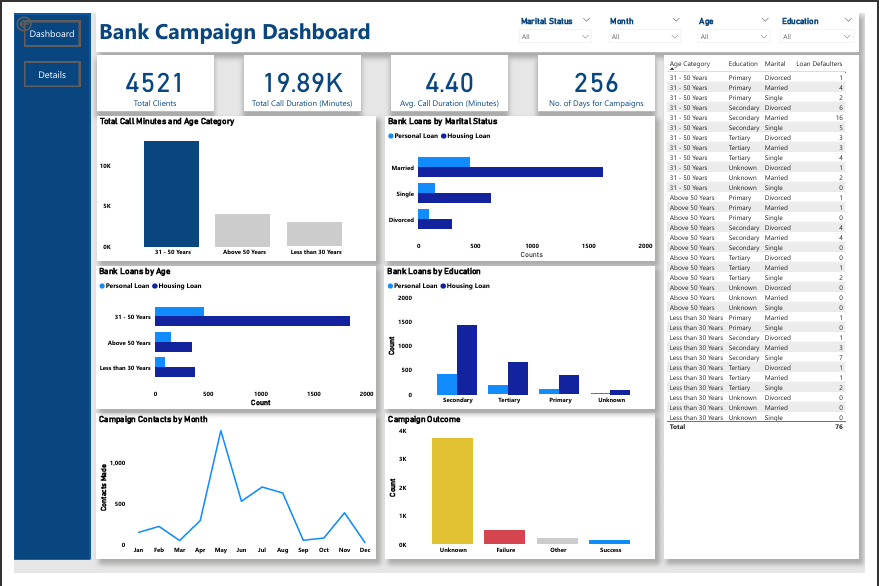

The page's visual inventory and layout, read from the dashboard file:
{"tool":"powerbi","page":{"name":"Page 1","canvas":[1700,1120],"ordinal":0},"visuals":[{"type":"shape","box":[0,0,152.1,1091.3],"z":0},{"type":"actionButton","box":[19.8,14.2,112,51],"z":1000},{"type":"actionButton","box":[19.8,95,112,51],"z":2000},{"type":"textbox","box":[165.3,0,1521.5,77.9],"z":3000},{"type":"slicer","fields":{"Values":["public bank_2.month"]},"box":[1177.7,0,165.3,77.9],"z":4000},{"type":"card","fields":{"Values":["CountNonNull(public bank_2.age)"]},"box":[165.8,83.6,232.4,112],"z":5000},{"type":"card","fields":{"Values":["Sum(public bank_2.duration_minutes)"]},"box":[459.7,83.6,232.4,112],"z":6000},{"type":"card","fields":{"Values":["Avg(public bank_2.duration_minutes)"]},"box":[753.5,83.6,232.4,112],"z":7000},{"type":"card","fields":{"Values":["Count(public bank_2.date)"]},"box":[1047.4,83.6,232.4,112],"z":8000},{"type":"clusteredColumnChart","title":"Total Call Minutes and Age Category","fields":{"Category":["public bank_2.age_cat"],"Y":["Sum(public bank_2.duration_minutes)"]},"box":[165.7,204.5,557.1,290.9],"z":9000},{"type":"clusteredBarChart","title":"Bank Loans by Marital Status","fields":{"Category":["public bank_2.marital"],"Y":["public bank_2.Personal_loan","public bank_2.Housing_loan"]},"box":[742.3,204.5,537.7,290.9],"z":10000},{"type":"actionButton","box":[0,0,100,40],"z":11000},{"type":"lineChart","title":"Campaign Contacts by Month","fields":{"Y":["CountNonNull(public bank_2.campaign)"],"Category":["public bank_2.month"]},"box":[165.4,800.3,557.8,291],"z":12000},{"type":"columnChart","title":"Campaign Outcome","fields":{"Category":["public bank_2.poutcome"],"Y":["CountNonNull(public bank_2.poutcome)"]},"box":[743,800.3,538,291],"z":13000},{"type":"tableEx","fields":{"Values":["public bank_2.age_cat","public bank_2.education","public bank_2.marital","month_table.Loan Default"]},"box":[1298.6,83.8,388,1007.6],"z":14000},{"type":"slicer","fields":{"Values":["public bank_2.age_cat"]},"box":[1356.2,0,165.3,66.5],"z":15000},{"type":"slicer","fields":{"Values":["public bank_2.education"]},"box":[1521.5,0,165.3,77.9],"z":16000},{"type":"slicer","fields":{"Values":["public bank_2.marital"]},"box":[999.1,0,165.3,77.9],"z":17000},{"type":"clusteredBarChart","title":"Bank Loans by Age","fields":{"Category":["public bank_2.Age Category"],"Y":["public bank_2.Personal_loan","public bank_2.Housing_loan"]},"box":[165.4,504.9,558.1,286.4],"z":18000},{"type":"clusteredColumnChart","title":"Bank Loans by Education","fields":{"Category":["public bank_2.Education"],"Y":["public bank_2.Personal_loan","public bank_2.Housing_loan"]},"box":[740.8,504.9,540.2,286.6],"z":19000}]}

Visuals, with their boxes in screenshot pixels (x1, y1, x2, y2):
shape: x1=11 y1=0 x2=89 y2=556
actionButton: x1=22 y1=7 x2=79 y2=33
actionButton: x1=22 y1=48 x2=79 y2=74
textbox: x1=96 y1=0 x2=872 y2=40
slicer - public bank_2.month: x1=612 y1=0 x2=696 y2=40
card - CountNonNull(public bank_2.age): x1=96 y1=43 x2=214 y2=100
card - Sum(public bank_2.duration_minutes): x1=246 y1=43 x2=364 y2=100
card - Avg(public bank_2.duration_minutes): x1=396 y1=43 x2=514 y2=100
card - Count(public bank_2.date): x1=546 y1=43 x2=664 y2=100
"Total Call Minutes and Age Category" clusteredColumnChart: x1=96 y1=104 x2=380 y2=253
"Bank Loans by Marital Status" clusteredBarChart: x1=390 y1=104 x2=664 y2=253
actionButton: x1=11 y1=0 x2=62 y2=20
"Campaign Contacts by Month" lineChart: x1=96 y1=408 x2=380 y2=556
"Campaign Outcome" columnChart: x1=390 y1=408 x2=665 y2=556
tableEx - public bank_2.age_cat x public bank_2.education: x1=674 y1=43 x2=871 y2=557
slicer - public bank_2.age_cat: x1=703 y1=0 x2=787 y2=34
slicer - public bank_2.education: x1=787 y1=0 x2=872 y2=40
slicer - public bank_2.marital: x1=521 y1=0 x2=605 y2=40
"Bank Loans by Age" clusteredBarChart: x1=96 y1=257 x2=380 y2=403
"Bank Loans by Education" clusteredColumnChart: x1=389 y1=257 x2=665 y2=404
